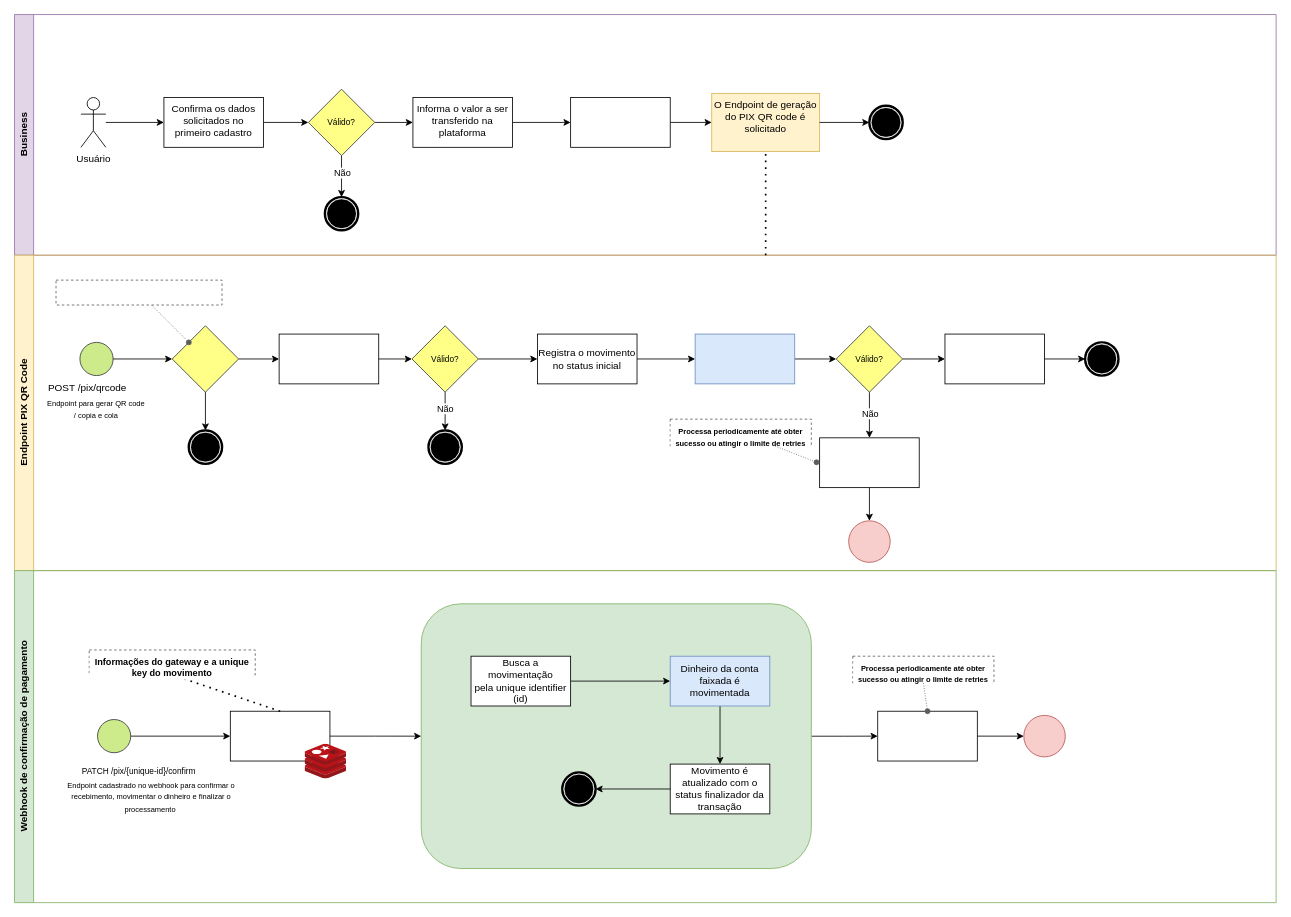
Some shapes in this 1291 by 917 pixel diagram are drawn without their labels. Each missing label, with the centre of its shape:
"Chama service de gateway" belongs at pixel 744 358.
"Confirma a promessa de rendimento da plataforma" belongs at pixel 620 122.
"Dispara evento para processar assíncrono" belongs at pixel 869 462.
"Dispara evento para tratamento assíncrono" belongs at pixel 927 735.
"Registra a intenção de confirmação do movimento" belongs at pixel 279 735.
"Retorna com QR code para o usuário realizar a transferência" belongs at pixel 994 358.
"Throttling 100/req min" belongs at pixel 205 358.
"Valida o payload para gerar o QR code" belongs at pixel 328 358.
"Validar pelo client" belongs at pixel 138 292.
